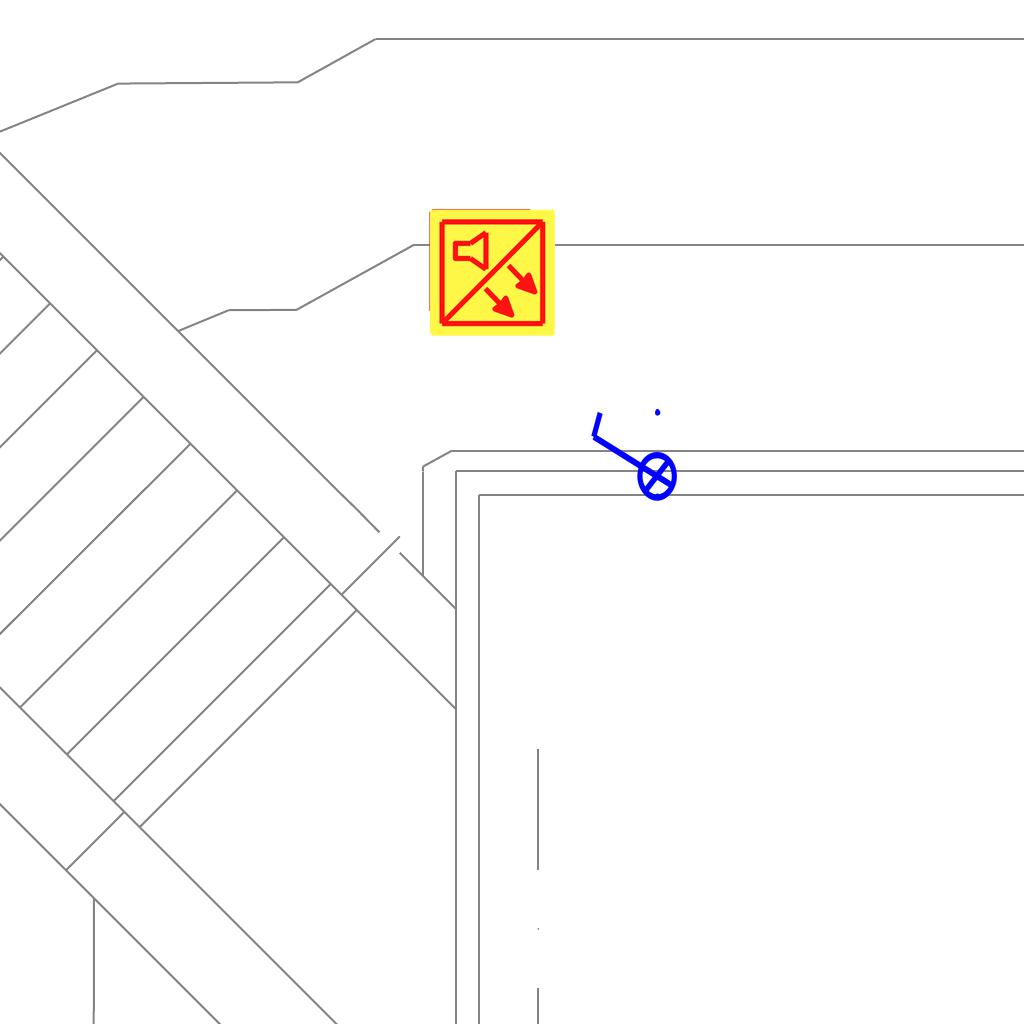Ausschalter_beleuchtet: (583, 403, 679, 515)
OKW_Multisensormelder_(Kombination_optischer_Rauch-Kahlenmonoxid_Waerme-Melder): (426, 207, 558, 339)
